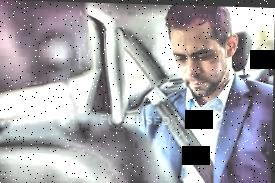seatbelt: (140, 72, 223, 183)
